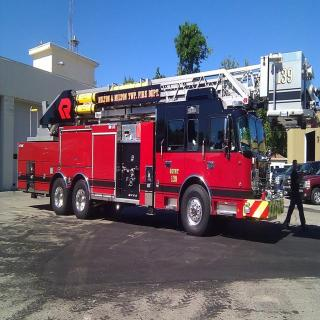Fire_truck: (13, 71, 285, 236)
